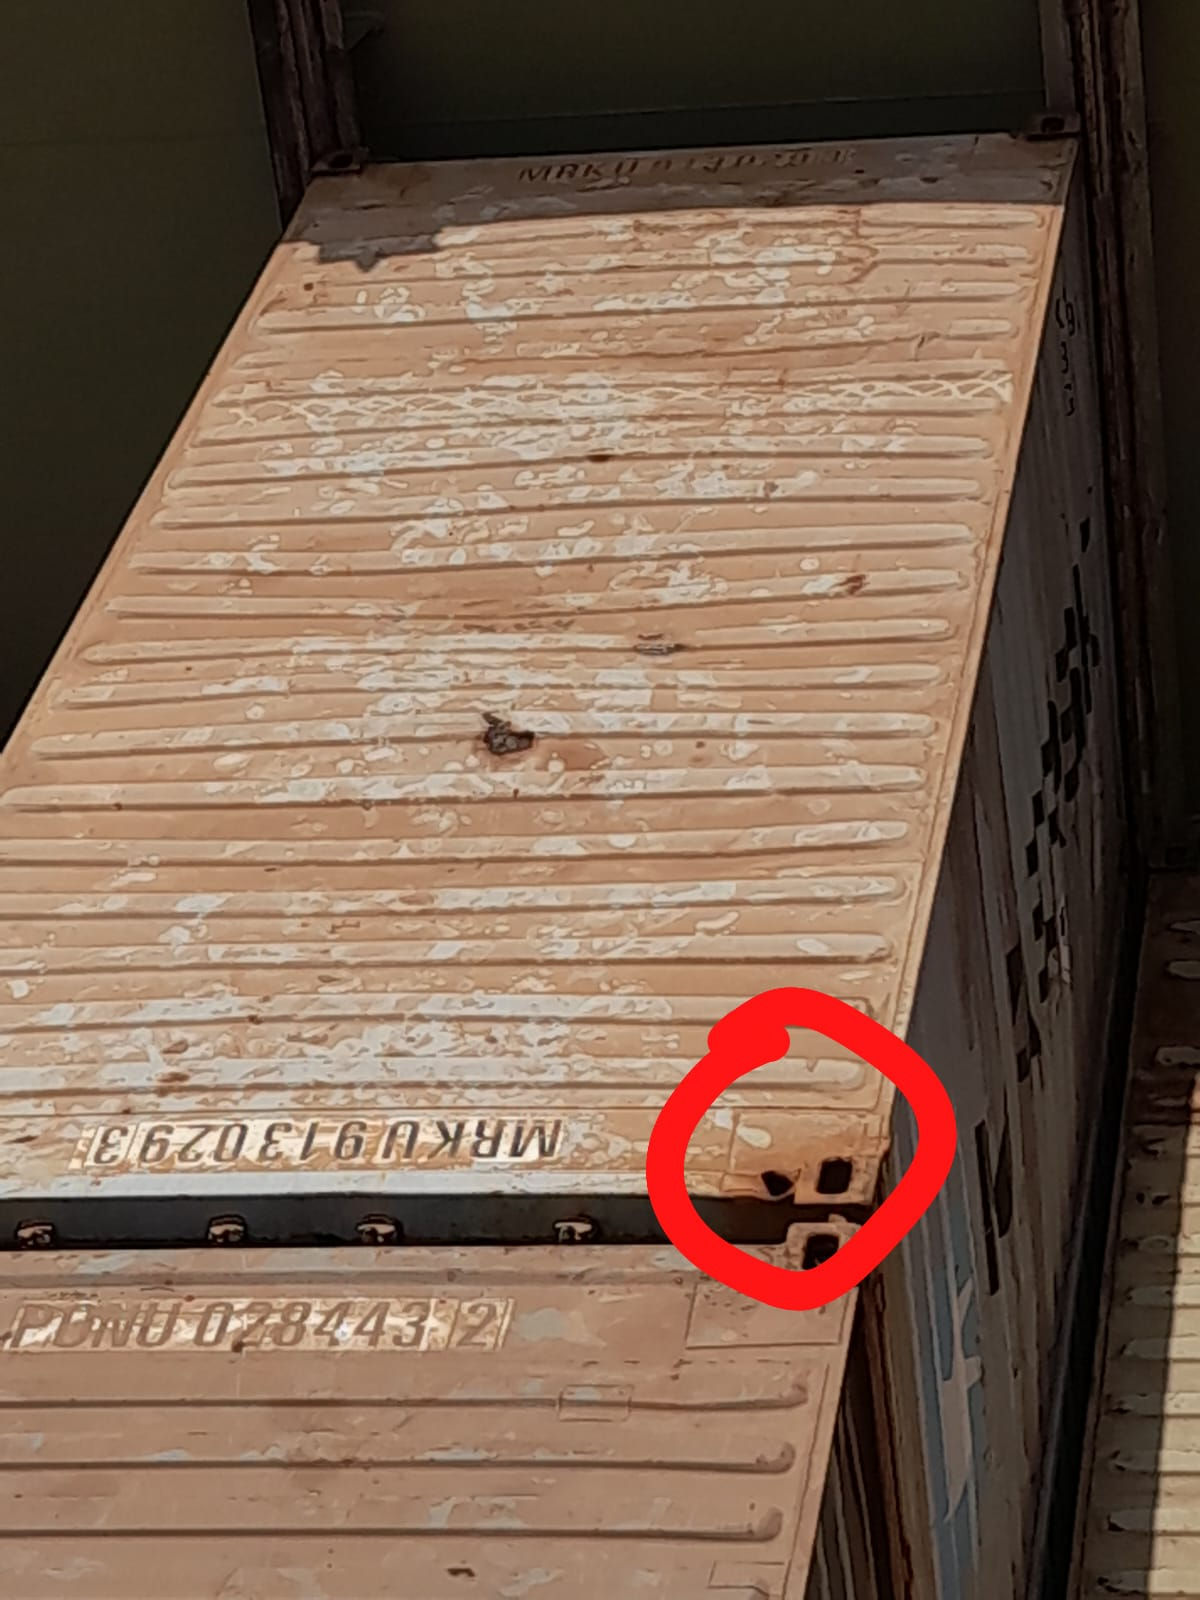severe: (679, 1081, 807, 1208), (442, 682, 551, 794)
